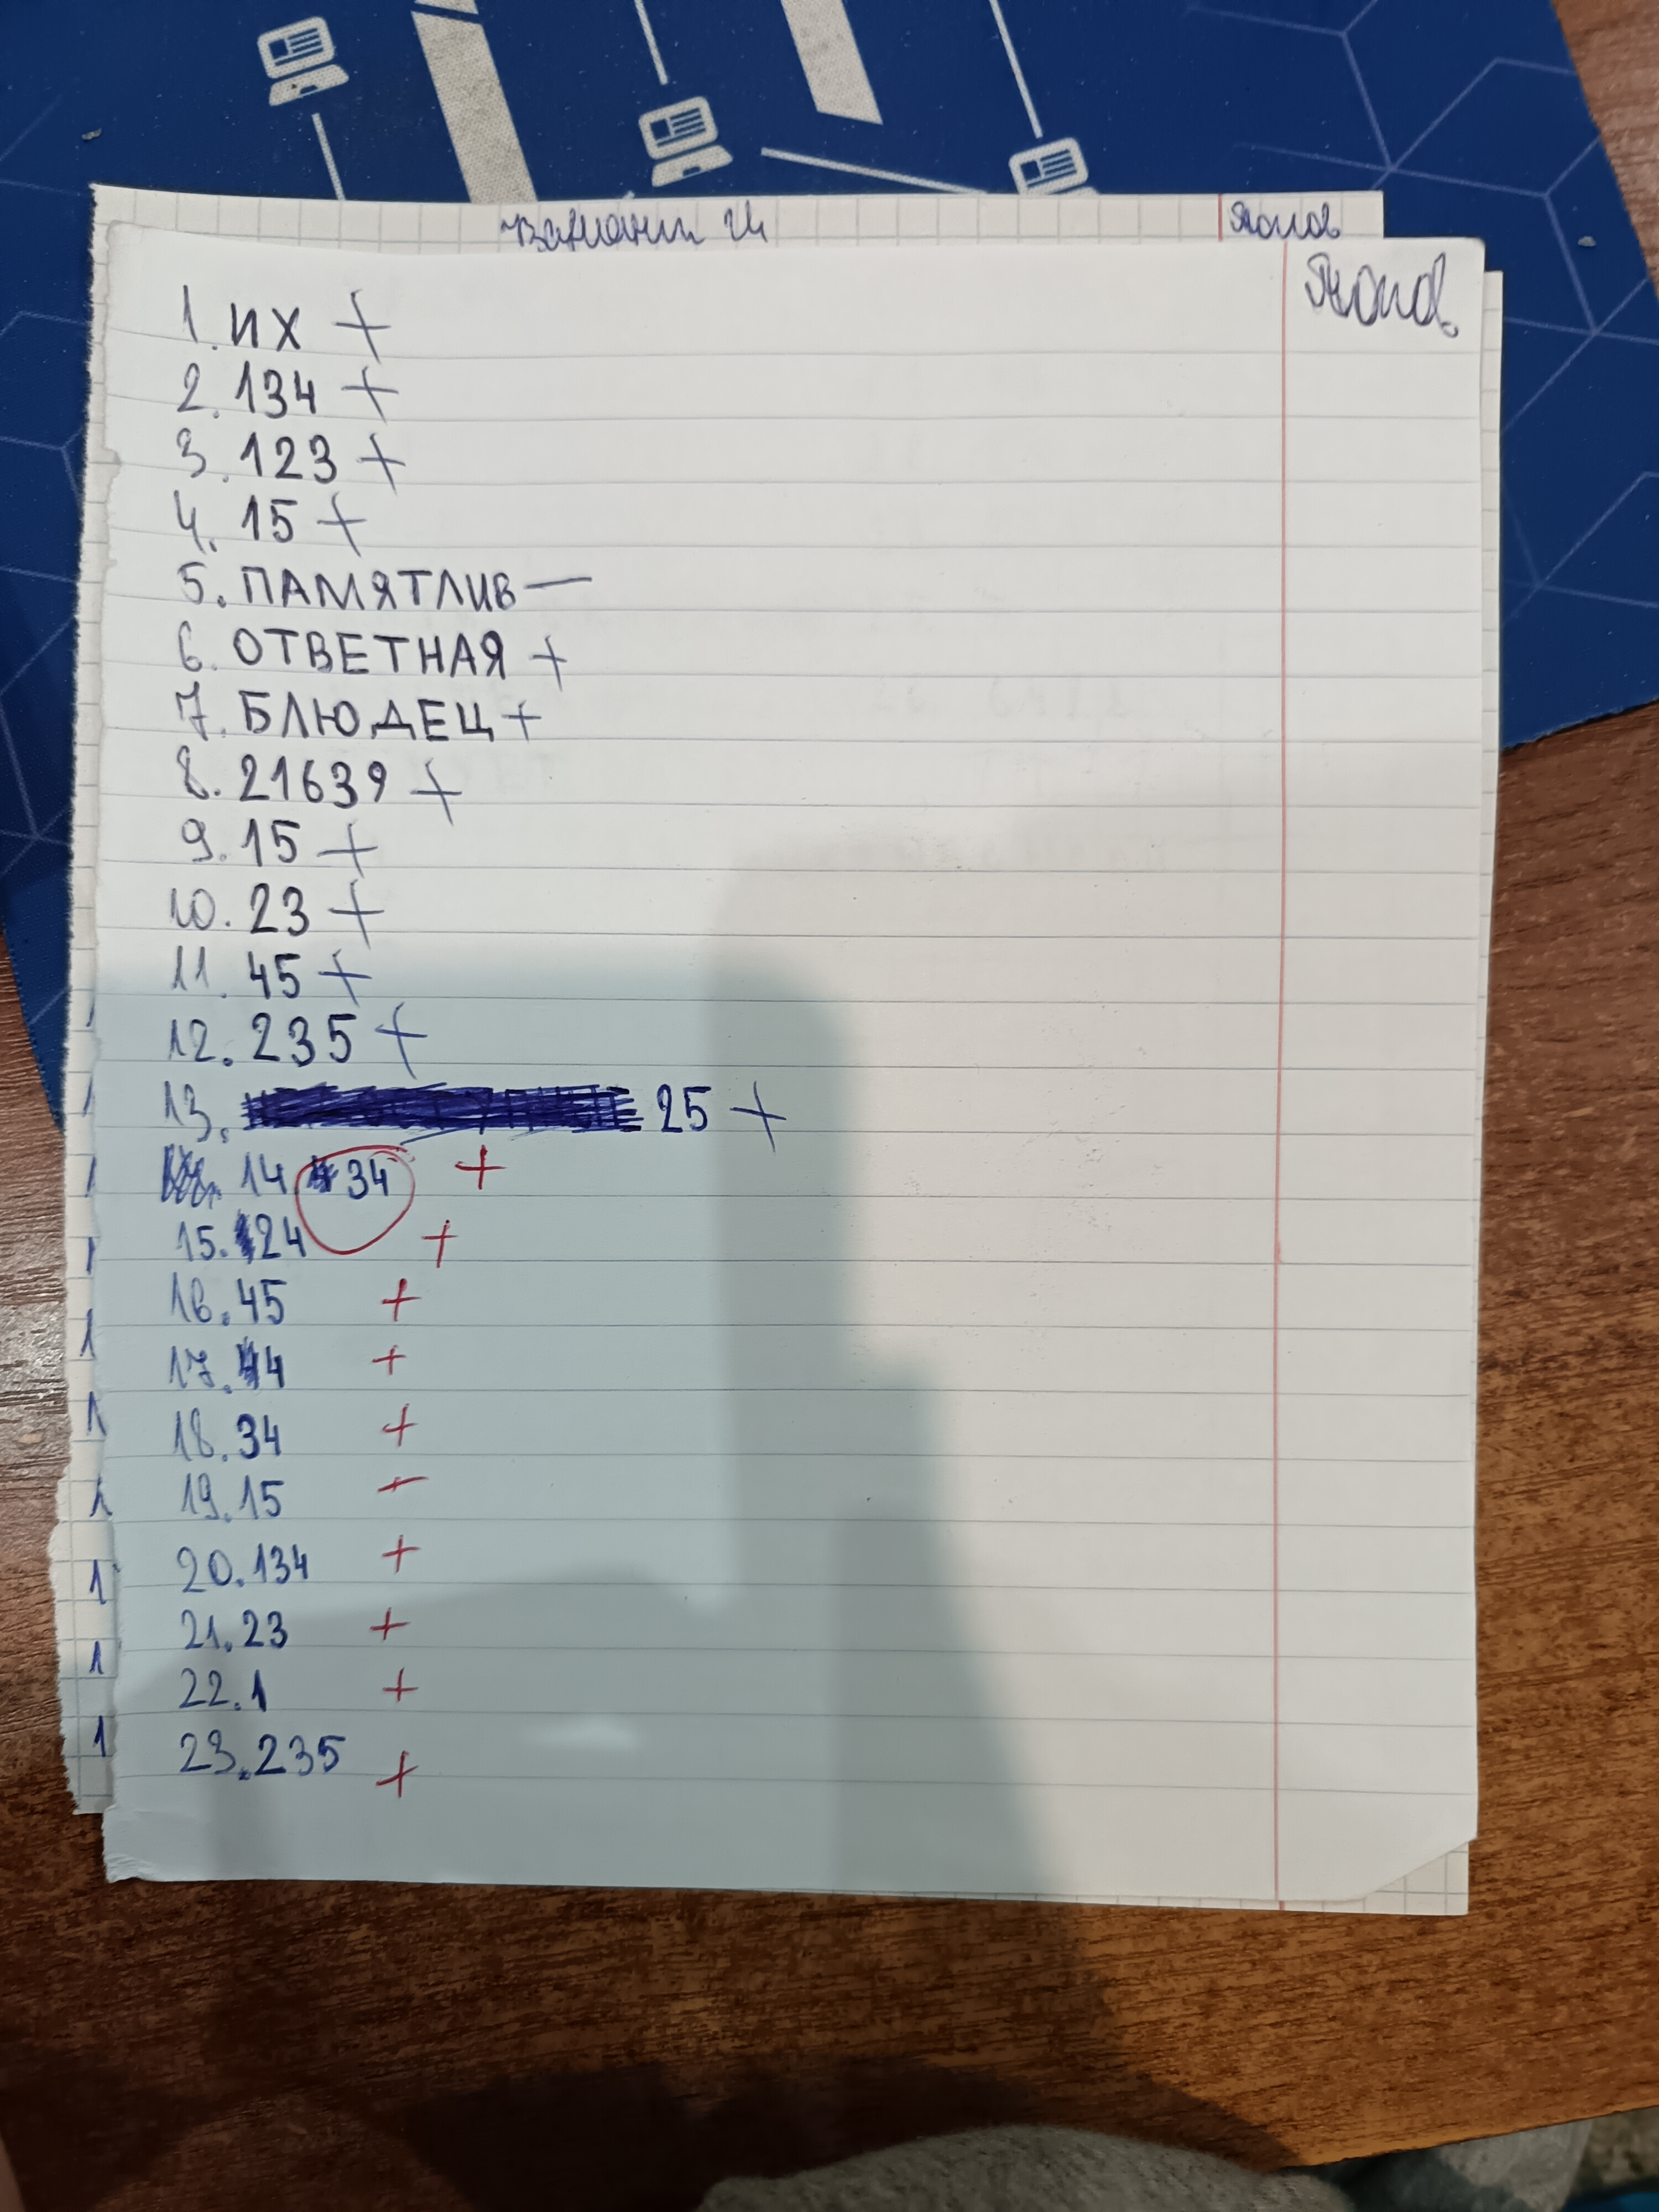text: (157, 1073, 727, 1148), (173, 556, 521, 620), (174, 681, 498, 749), (171, 622, 514, 683), (169, 742, 397, 813), (166, 1007, 357, 1071), (166, 423, 343, 489), (167, 280, 317, 357), (166, 354, 324, 425), (171, 1724, 349, 1785), (162, 939, 315, 1005), (166, 486, 305, 557), (160, 880, 314, 941), (164, 1209, 312, 1270), (176, 810, 307, 874), (174, 1536, 312, 1595), (164, 1271, 295, 1332), (167, 1407, 291, 1467), (171, 1468, 295, 1527), (166, 1339, 291, 1397), (173, 1601, 295, 1658), (171, 1662, 282, 1717)
